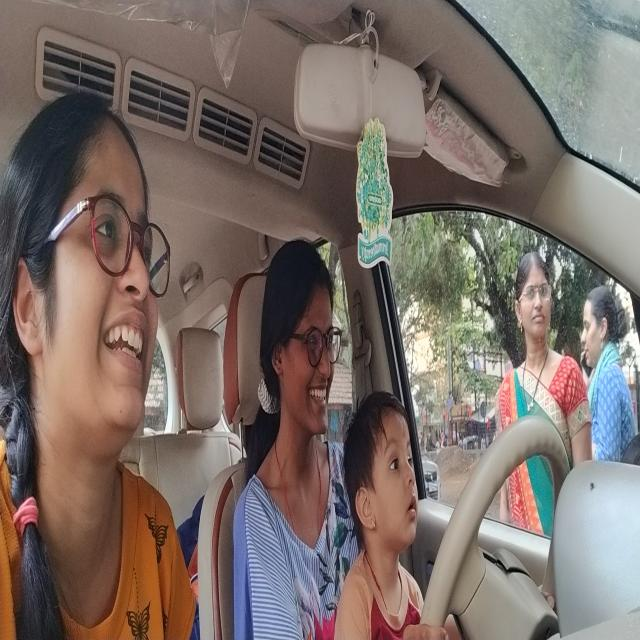child: (341, 376, 424, 563)
person: (2, 82, 177, 504), (259, 224, 344, 446)
